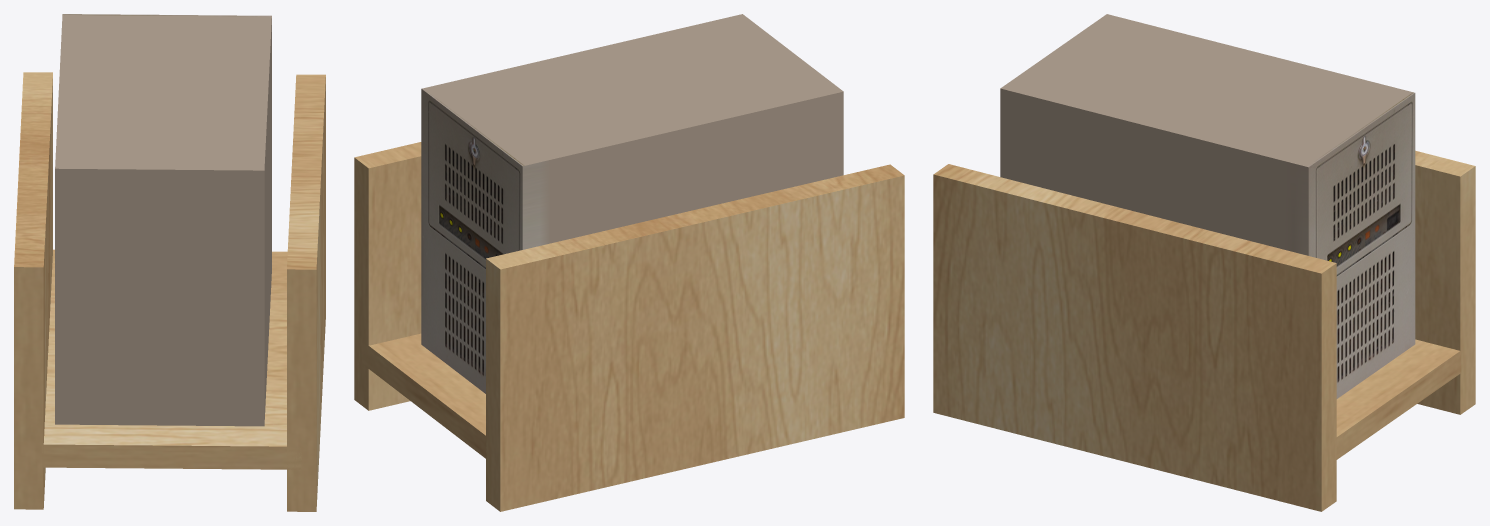
The model's file is Блок И Подставка.fbx.
3 renders of one model, left to right at view 1: azimuth 30°, elevation 25°; view 2: azimuth 150°, elevation 25°; view 3: azimuth 270°, elevation 25°, orthographic.
Parts seen in each view (by area): view 1: Блок_И_Подставка; view 2: Блок_И_Подставка; view 3: Блок_И_Подставка.
Part boxes in pixels (<box>): Блок_И_Подставка: <box>14,14,325,511</box>; Блок_И_Подставка: <box>354,14,904,511</box>; Блок_И_Подставка: <box>933,14,1475,511</box>.
Size of the model in its own units: 48.86 by 34.77 by 54.13.
Materials: 1 (1 with a texture image).
